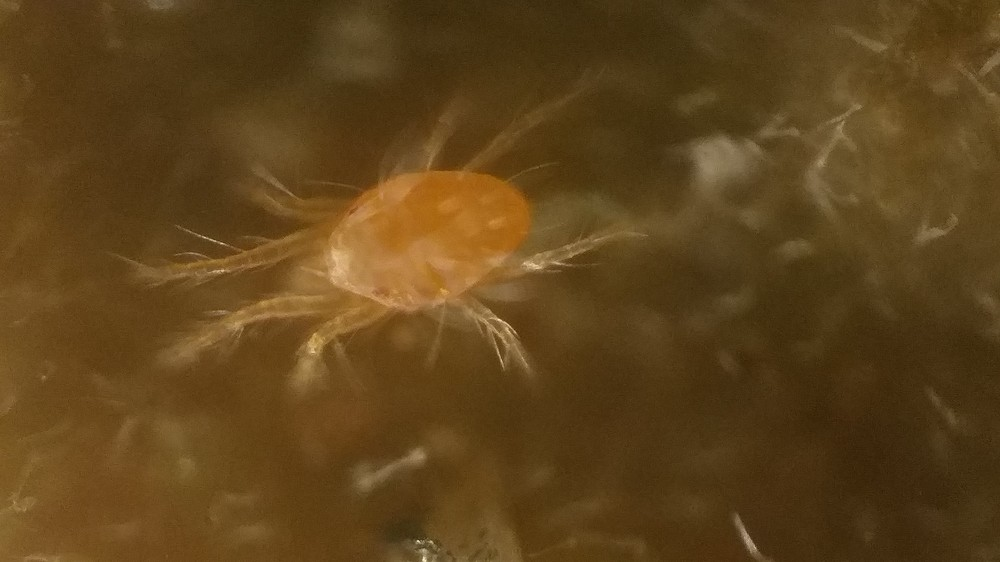Aracnido Rojo: (121, 88, 660, 411)
